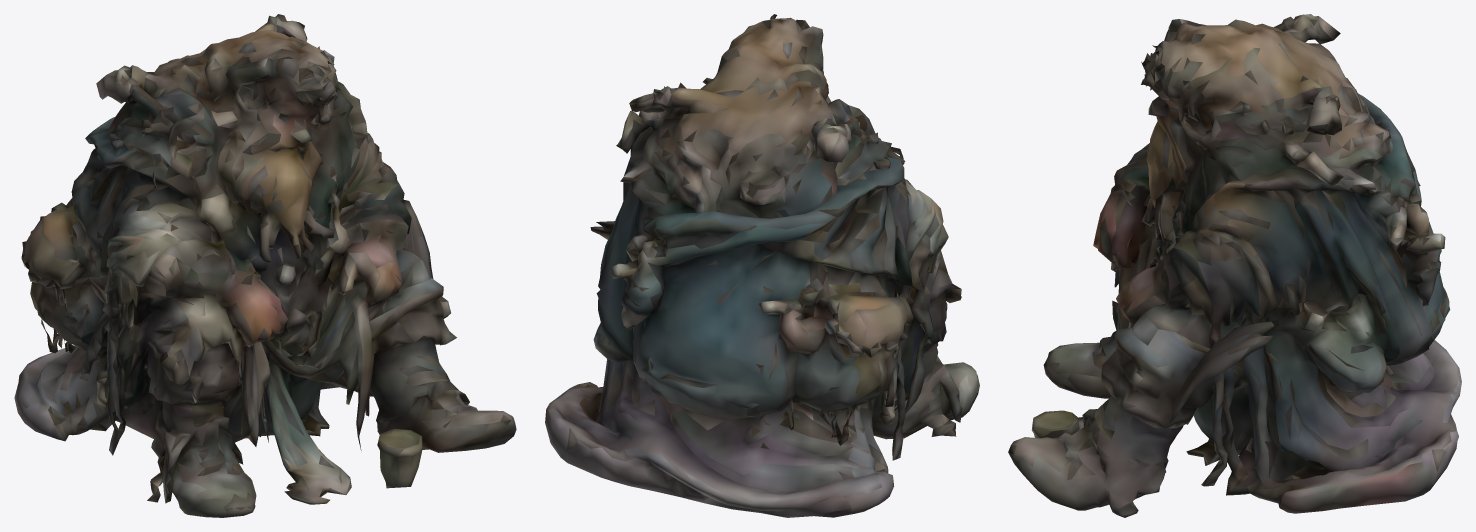
File: Dwarf Captive_final.glb
3 views of the same model, side by side, from view 1: azimuth 30°, elevation 25°; view 2: azimuth 150°, elevation 25°; view 3: azimuth 270°, elevation 25° (orthographic). The views are drawn at different scales.
Parts seen in each view (by area): view 1: Mesh_0.001; view 2: Mesh_0.001; view 3: Mesh_0.001.
Part boxes in pixels (x1,y1,x2,y2): Mesh_0.001: (14, 14, 516, 517); Mesh_0.001: (545, 14, 979, 517); Mesh_0.001: (1008, 14, 1461, 517).
Bounding box in the file's own units: 1.36 × 1.5 × 1.48.
1 material, 1 textured.
